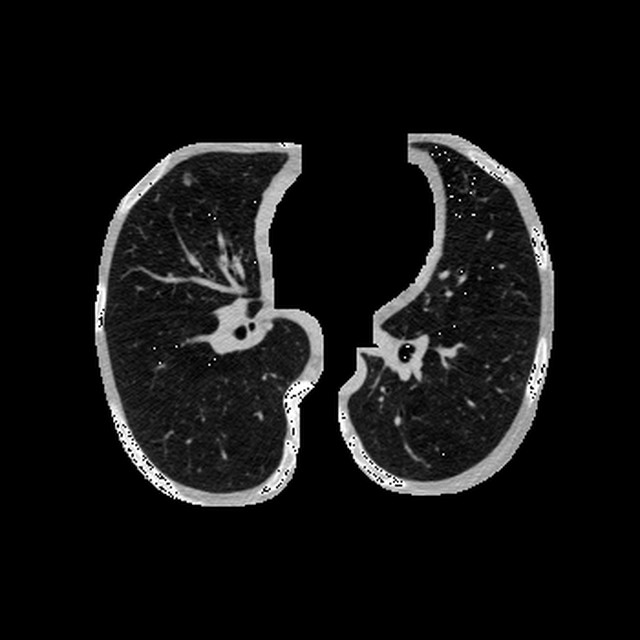PN: (183, 176, 190, 183)
